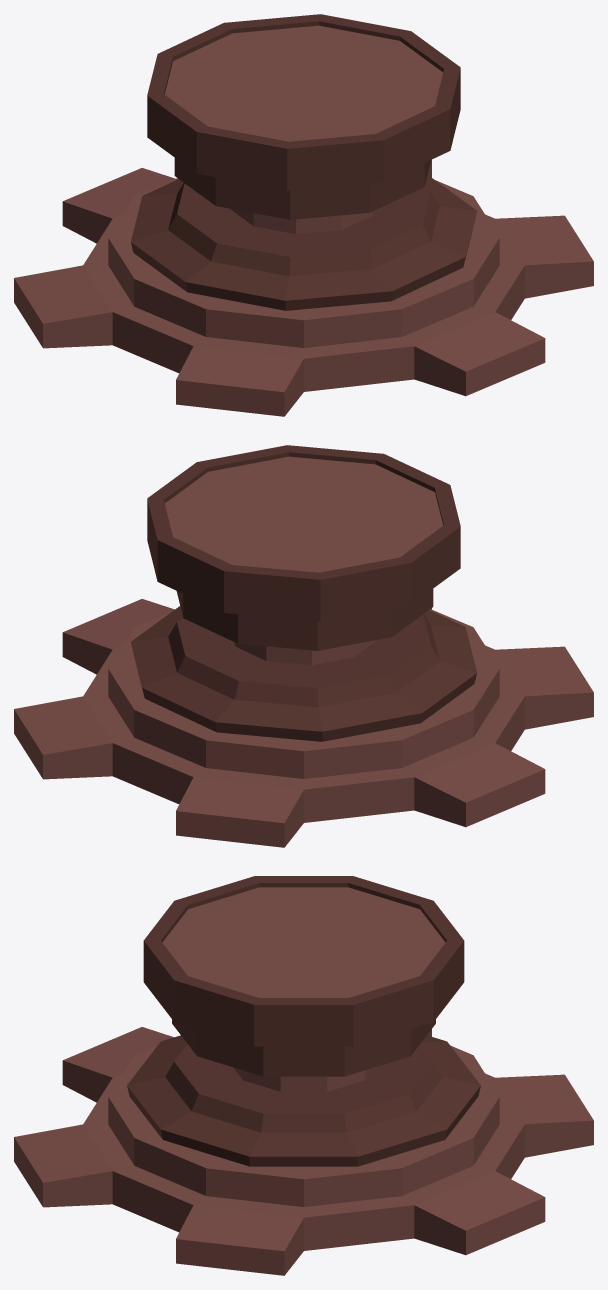
3 renders of one model, top to bottom at view 1: azimuth 30°, elevation 25°; view 2: azimuth 150°, elevation 25°; view 3: azimuth 270°, elevation 25°, orthographic.
Parts seen in each view (by area): view 1: _MeshInstance3D_126; view 2: _MeshInstance3D_126; view 3: _MeshInstance3D_126.
Boxes of the visible parts, box(x1,y1,x2,y2) form: _MeshInstance3D_126: box(14, 14, 593, 416); _MeshInstance3D_126: box(14, 445, 593, 847); _MeshInstance3D_126: box(14, 876, 593, 1275).
Bounding box in the file's own units: 1.38 × 0.5688 × 1.38.
